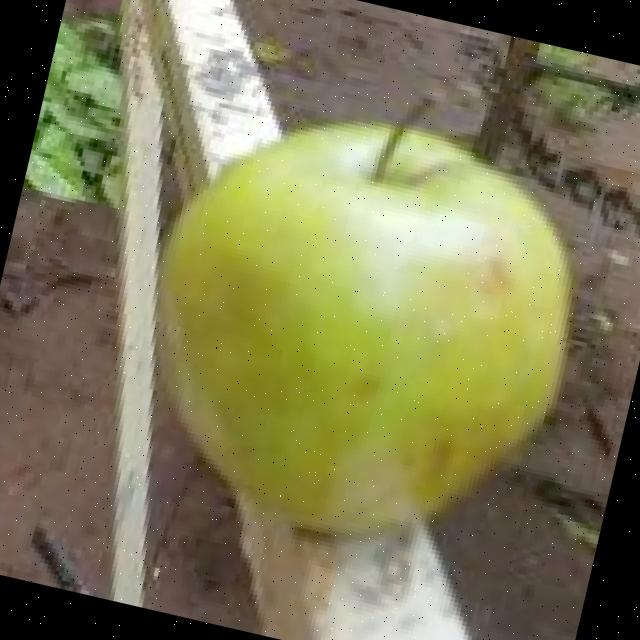Good_Apple 10-21 days: (165, 126, 570, 532)
